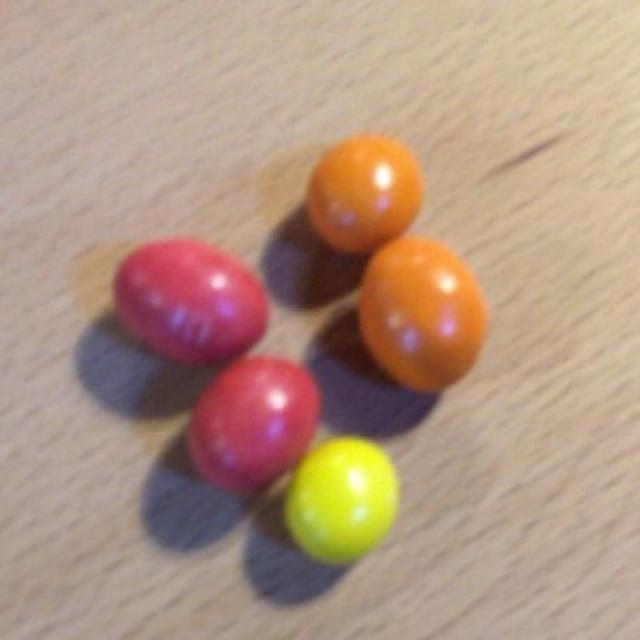m-m-s: (117, 146, 482, 562)
